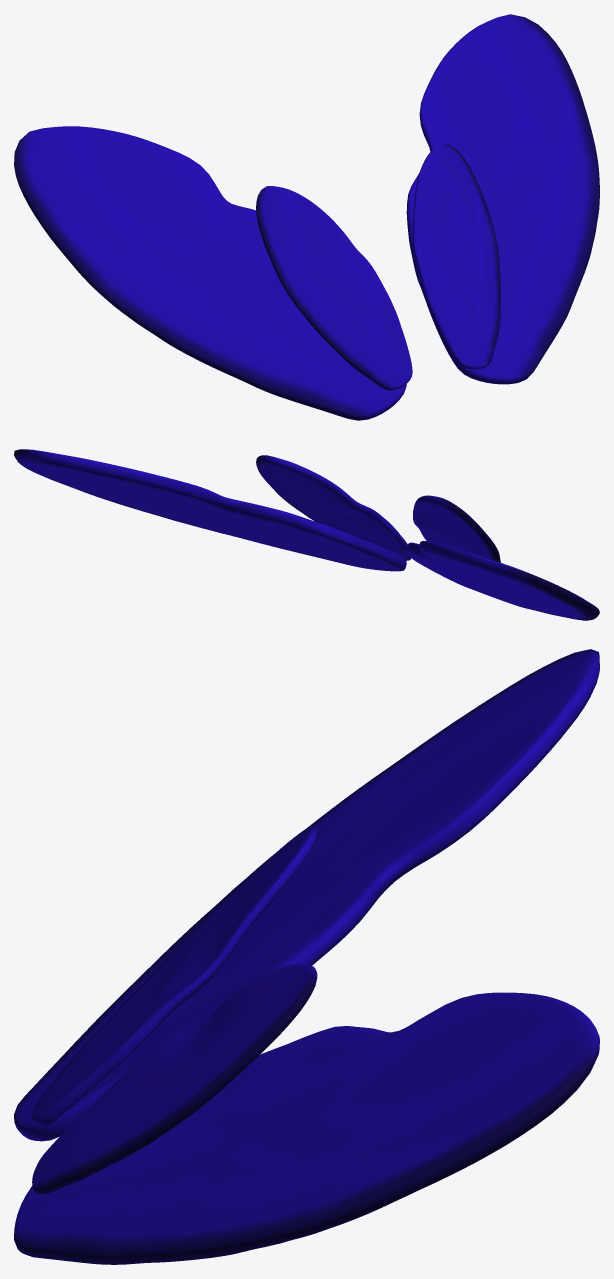
The model's file is BUG WINGS.fbx.
3 renders of one model, top to bottom at view 1: azimuth 30°, elevation 25°; view 2: azimuth 150°, elevation 25°; view 3: azimuth 270°, elevation 25°, orthographic. The views are drawn at different scales.
Parts seen in each view (by area): view 1: Object_7; view 2: Object_7; view 3: Object_7.
Boxes of the visible parts, <box> form: Object_7: <box>14,14,599,420</box>; Object_7: <box>14,449,599,620</box>; Object_7: <box>14,649,599,1264</box>.
Size of the model in its own units: 127 by 45.44 by 70.95.
